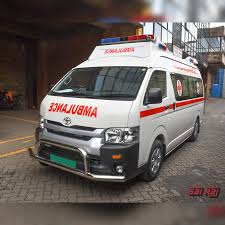Ambulance: (35, 33, 208, 186)
